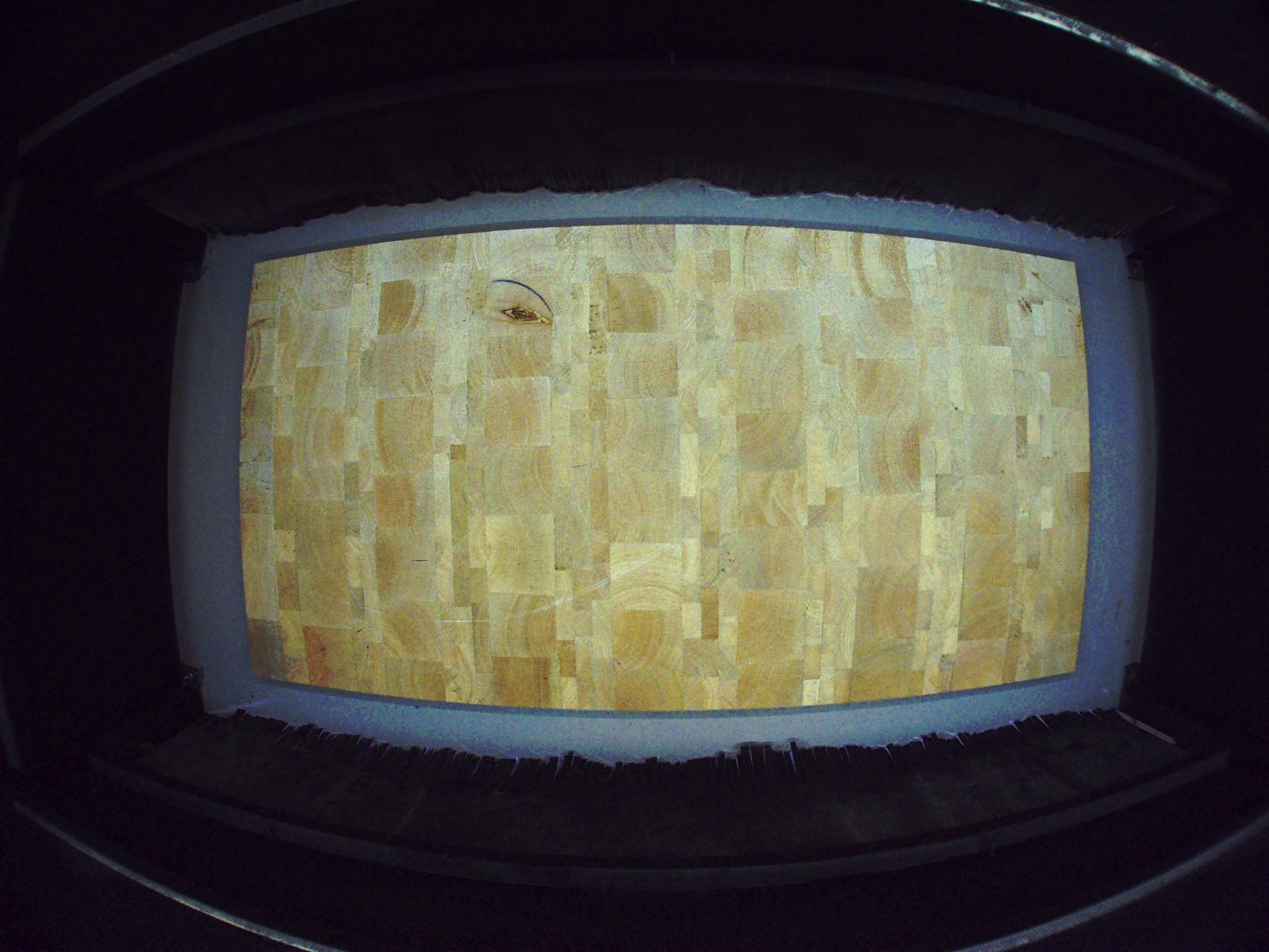nudillo: (488, 295, 553, 330)
